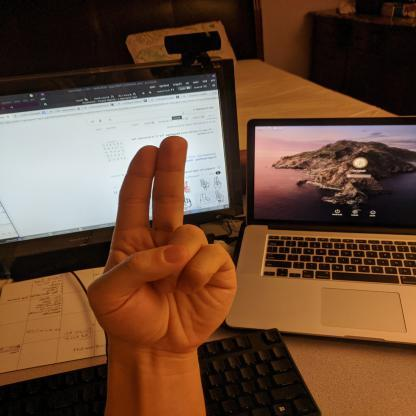U: (83, 131, 240, 355)
